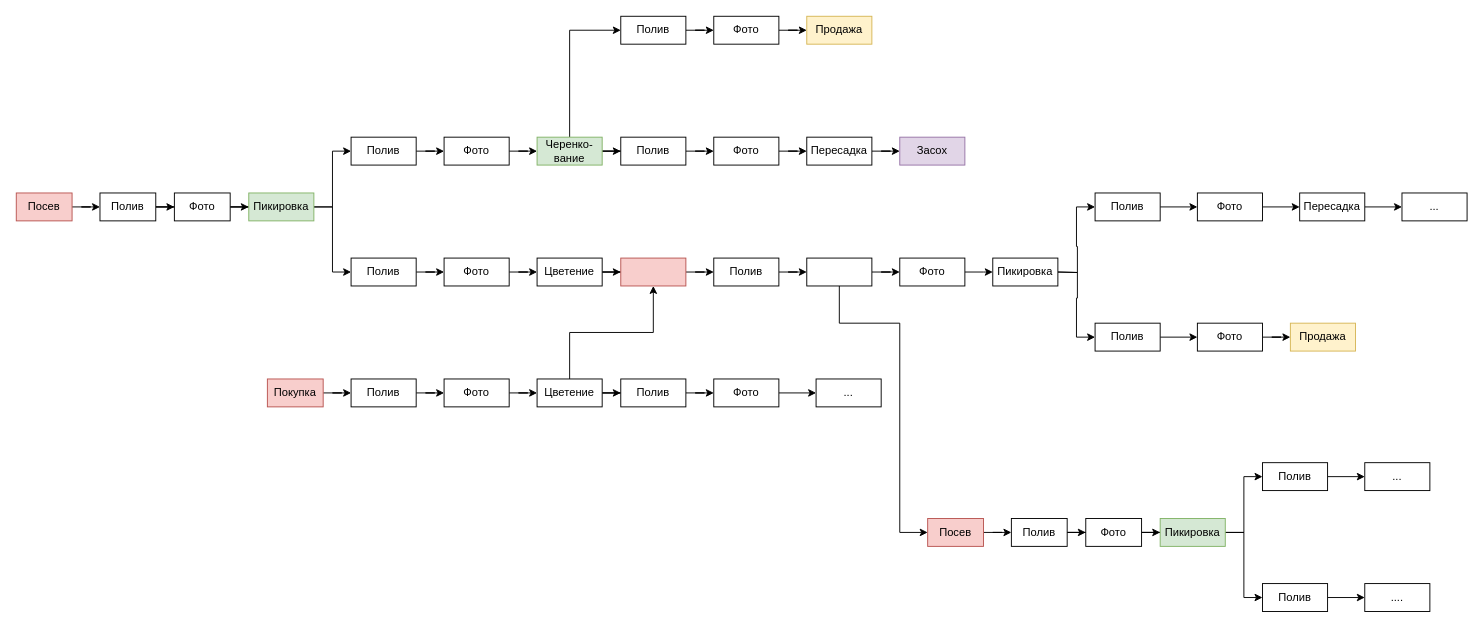
Image size: 1483x628. Some labels were removed from this diagram. The shapes that lost their labels are listed below. From the top down, each one's centre as x and y in pixels, then its label:
the point at 653,271: Опыление
the point at 839,271: Сбор семян
